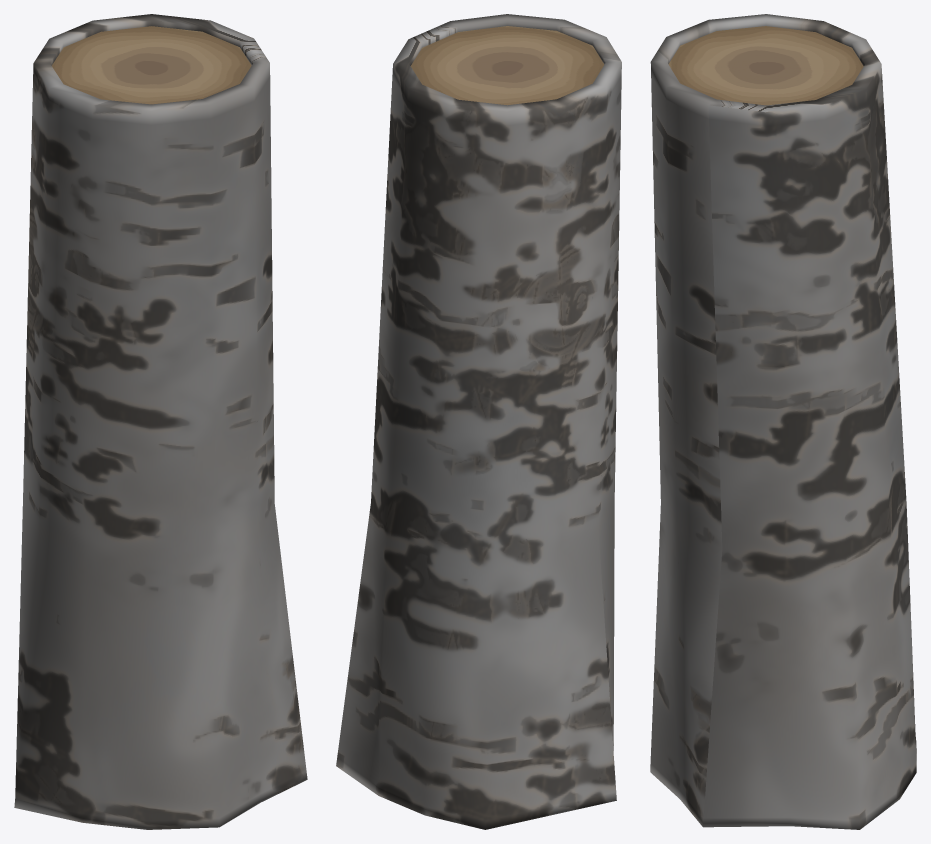
File: tree03_log_small.fbx
The picture shows the model from 3 angles, left to right: view 1: azimuth 30°, elevation 25°; view 2: azimuth 150°, elevation 25°; view 3: azimuth 270°, elevation 25°; orthographic projection. The views are drawn at different scales.
Visible parts, largest first — view 1: Cylinder.011; view 2: Cylinder.011; view 3: Cylinder.011.
Boxes of the visible parts, <box> form: Cylinder.011: <box>14,14,307,829</box>; Cylinder.011: <box>336,14,621,829</box>; Cylinder.011: <box>650,14,916,829</box>.
Size of the model in its own units: 27.66 by 75.33 by 25.74.
